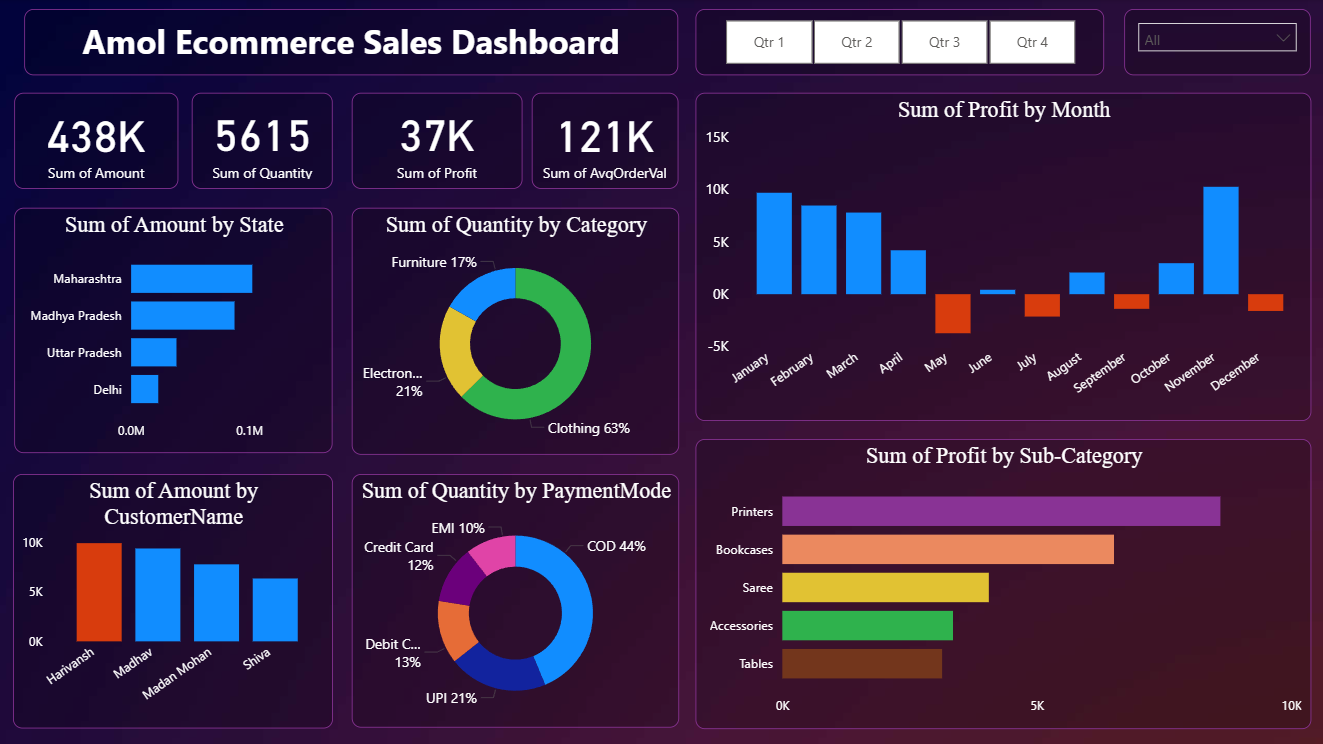

The dashboard page shown, as its layout file describes it:
{"tool":"powerbi","page":{"name":"Page 1","canvas":[1280,720],"ordinal":0},"visuals":[{"type":"textbox","box":[25.7,10,631.4,64.3],"z":0},{"type":"columnChart","fields":{"Category":["Orders.Order Date.Variation.Date Hierarchy.Month"],"Y":["Sum(Details.Profit)"]},"box":[672.9,90,594.3,317.1],"z":1000},{"type":"barChart","fields":{"Category":["Details.Sub-Category"],"Y":["Sum(Details.Profit)"]},"box":[672.9,424.3,594.3,280],"z":2001},{"type":"donutChart","fields":{"Category":["Details.Category"],"Y":["Sum(Details.Quantity)"]},"box":[341.2,201.2,316.2,238.8],"z":2002},{"type":"donutChart","fields":{"Y":["Sum(Details.Quantity)"],"Category":["Details.PaymentMode"]},"box":[341.2,458.8,316.2,245],"z":2003},{"type":"card","fields":{"Values":["Sum(Details.Amount)"]},"box":[15.7,90,158.6,92.9],"z":2004},{"type":"card","fields":{"Values":["Sum(Details.Quantity)"]},"box":[187.5,90,136.2,92.5],"z":2005},{"type":"card","fields":{"Values":["Sum(Details.Profit)"]},"box":[341.2,90,165,92.5],"z":2006},{"type":"card","fields":{"Values":["Sum(Details.AvgOrderVal)"]},"box":[515.7,90,141.4,92.9],"z":2007},{"type":"barChart","fields":{"Category":["Orders.State"],"Y":["Sum(Details.Amount)"]},"box":[15.7,201.4,307.1,237.1],"z":2008},{"type":"columnChart","fields":{"Category":["Orders.CustomerName"],"Y":["Sum(Details.Amount)"]},"box":[14.3,458.6,308.6,245.7],"z":2009},{"type":"slicer","fields":{"Values":["Orders.Order Date.Variation.Date Hierarchy.Quarter"]},"box":[672.9,10,394.3,64.3],"z":2010},{"type":"slicer","fields":{"Values":["Orders.State"]},"box":[1087.1,10,180,64.3],"z":2011}]}

Visuals, with their boxes in screenshot pixels (x1, y1, x2, y2), scaled from the page's 1280x720 canvas onto the 1323x744 screenshot:
textbox: (x1=27, y1=10, x2=679, y2=77)
columnChart - Orders.Order Date.Variation.Date Hierarchy.Month x Sum(Details.Profit): (x1=696, y1=93, x2=1310, y2=421)
barChart - Details.Sub-Category x Sum(Details.Profit): (x1=696, y1=438, x2=1310, y2=728)
donutChart - Details.Category x Sum(Details.Quantity): (x1=353, y1=208, x2=679, y2=455)
donutChart - Sum(Details.Quantity) x Details.PaymentMode: (x1=353, y1=474, x2=679, y2=727)
card - Sum(Details.Amount): (x1=16, y1=93, x2=180, y2=189)
card - Sum(Details.Quantity): (x1=194, y1=93, x2=335, y2=189)
card - Sum(Details.Profit): (x1=353, y1=93, x2=523, y2=189)
card - Sum(Details.AvgOrderVal): (x1=533, y1=93, x2=679, y2=189)
barChart - Orders.State x Sum(Details.Amount): (x1=16, y1=208, x2=334, y2=453)
columnChart - Orders.CustomerName x Sum(Details.Amount): (x1=15, y1=474, x2=334, y2=728)
slicer - Orders.Order Date.Variation.Date Hierarchy.Quarter: (x1=696, y1=10, x2=1103, y2=77)
slicer - Orders.State: (x1=1124, y1=10, x2=1310, y2=77)
